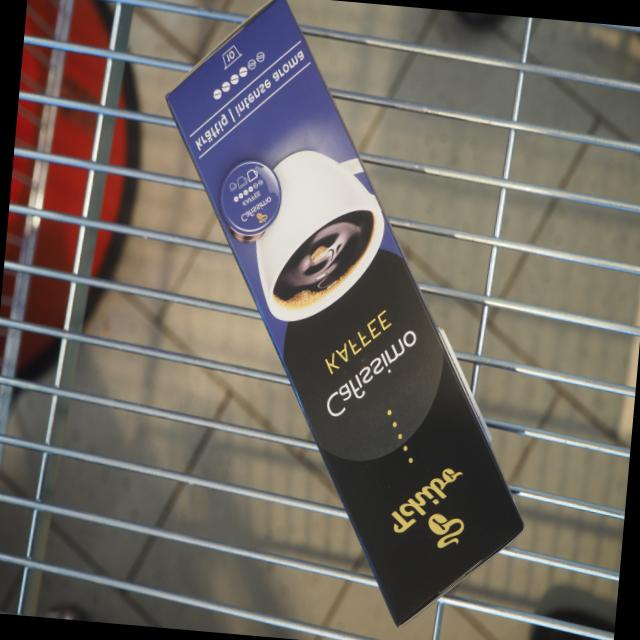Simo Kaffee Kraft: (161, 0, 530, 636)
